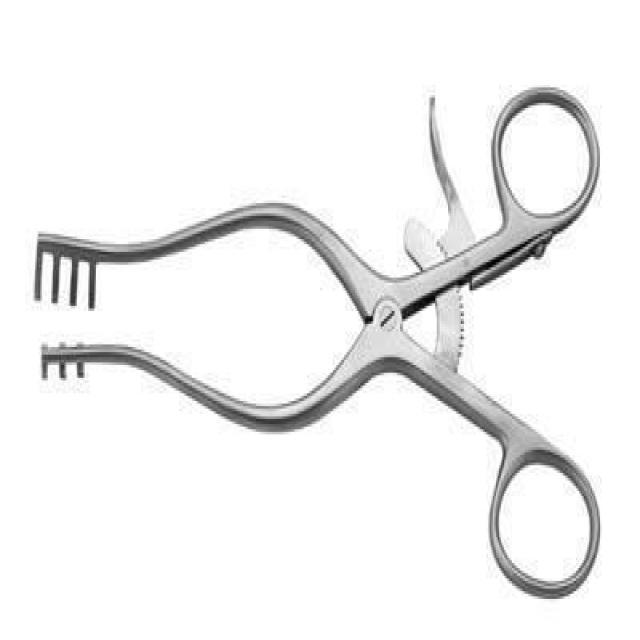Weitlaner: (34, 82, 604, 604)
